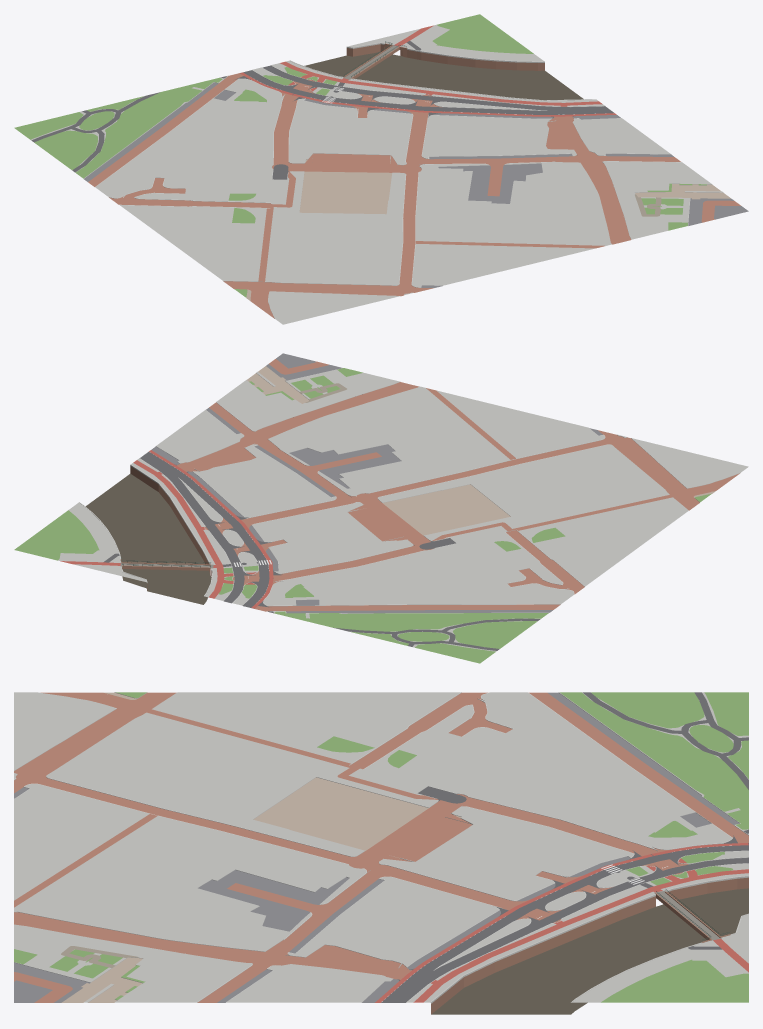
Rendered from ground_8_8.glb.
3 renders of one model, top to bottom at view 1: azimuth 30°, elevation 25°; view 2: azimuth 150°, elevation 25°; view 3: azimuth 270°, elevation 25°, orthographic. The views are drawn at different scales.
Parts seen in each view (by area): view 1: ground_8_8; view 2: ground_8_8; view 3: ground_8_8.
Part boxes in pixels (x1,y1,x2,y2): ground_8_8: (14, 14, 748, 324); ground_8_8: (14, 353, 748, 663); ground_8_8: (14, 692, 748, 1014).
Bounding box in the file's own units: 200 × 4.6 × 200.
